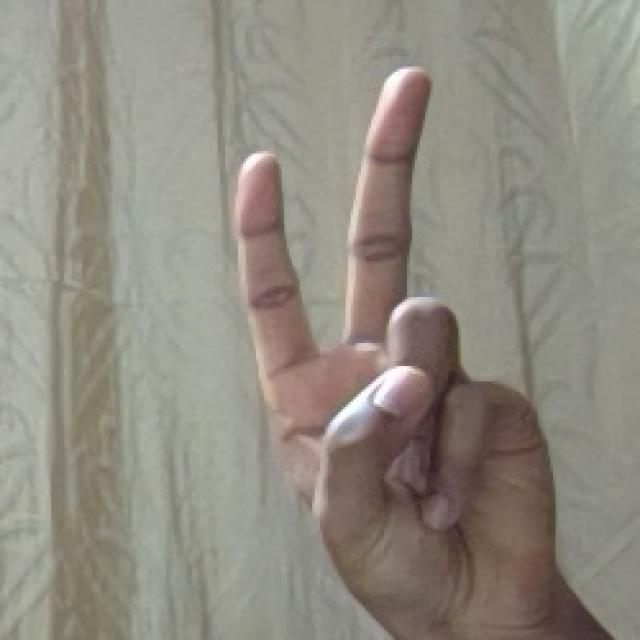Numeric-2: (233, 57, 556, 611)
